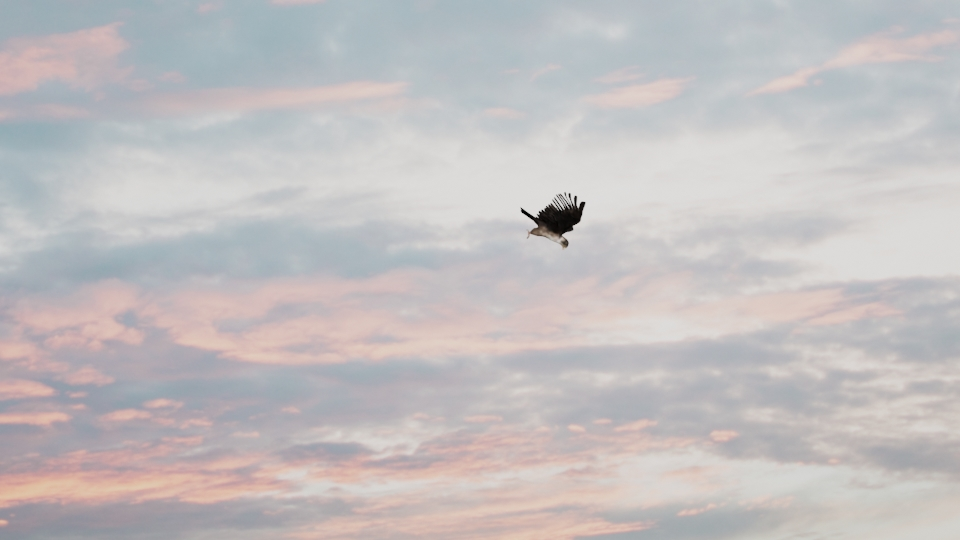bird: (522, 190, 589, 249)
